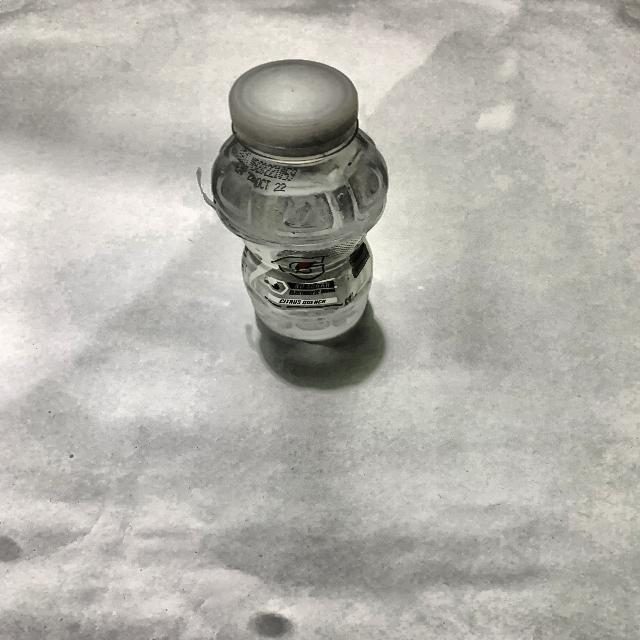plastic bottle: (211, 59, 388, 340)
